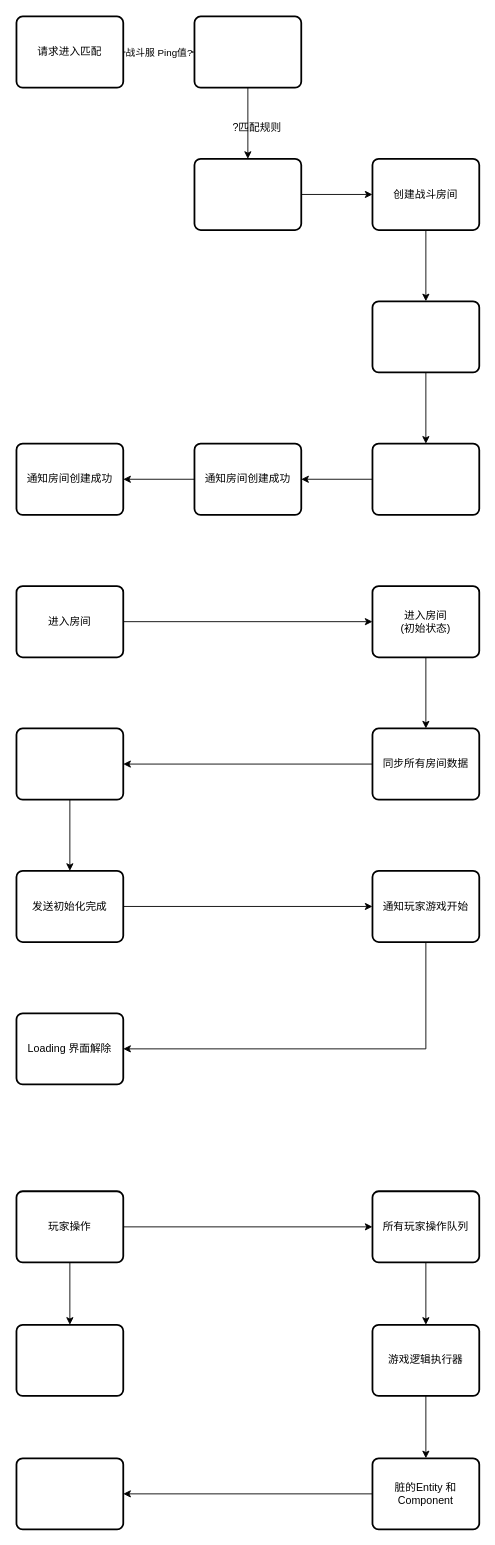
Some shapes in this 495 by 1545 pixel diagram are drawn without their labels. The shapes that lost their labels are listed below. From the top down, each one's centre as x and y in pixels, then its label:
At point 247,51: "进入匹配队列".
At point 247,194: "匹配逻辑/执行成功".
At point 425,336: "初始化地图生成规则".
At point 425,478: "生成创建地图".
At point 69,763: "地图初始化 加载场景资源".
At point 69,1359: "预表现".
At point 69,1493: "同步 表现和回溯".
